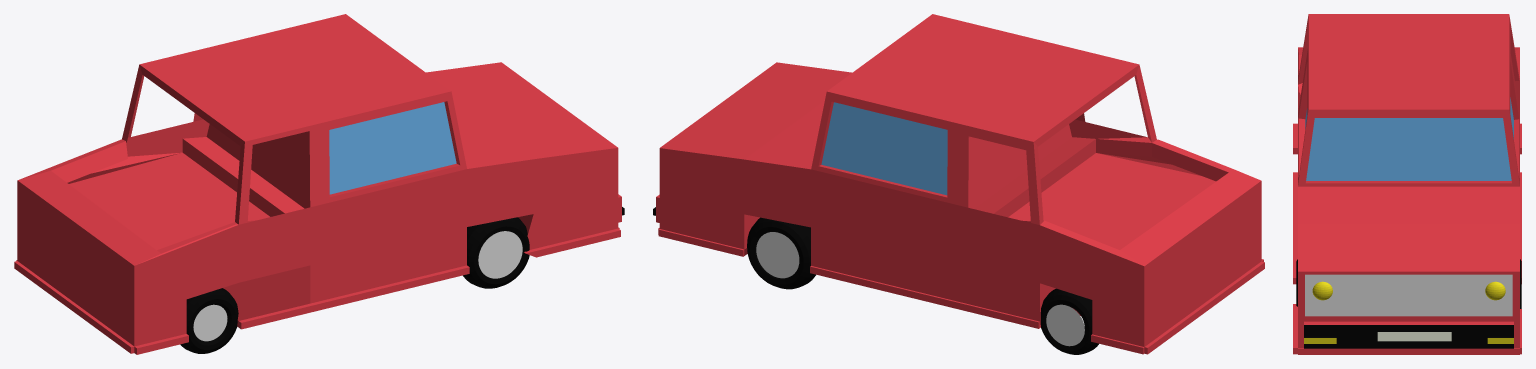
File: car.fbx
3 renders of one model, left to right at view 1: azimuth 30°, elevation 25°; view 2: azimuth 150°, elevation 25°; view 3: azimuth 270°, elevation 25°, orthographic. The views are drawn at different scales.
Parts seen in each view (by area): view 1: Cube, Cube.006, Torus.002, Torus.003, Circle.002, Circle.003; view 2: Cube, Cube.006, Torus, Torus.001, Circle, Circle.001; view 3: Cube, Cube.006, Cube.001, Cube.002, Cube.004, Cube.003, Sphere, Sphere.001.
Boxes of the visible parts, box(x1,y1,x2,y2) form: Cube: box(14, 14, 621, 354); Cube.006: box(329, 102, 456, 194); Torus.002: box(463, 217, 529, 288); Torus.003: box(180, 288, 238, 353); Circle.002: box(478, 231, 522, 278); Circle.003: box(193, 304, 227, 341); Cube: box(656, 14, 1264, 354); Cube.006: box(821, 102, 947, 195); Torus: box(747, 217, 815, 289); Torus.001: box(1040, 288, 1098, 354); Circle: box(756, 232, 799, 278); Circle.001: box(1046, 304, 1084, 346); Cube: box(1293, 14, 1521, 354); Cube.006: box(1305, 97, 1513, 180); Cube.001: box(1305, 274, 1512, 316); Cube.002: box(1304, 325, 1513, 348); Cube.004: box(1377, 332, 1451, 341); Cube.003: box(1304, 338, 1513, 343); Sphere: box(1312, 281, 1332, 300); Sphere.001: box(1485, 281, 1505, 300).
Size of the model in its own units: 201 by 79.87 by 84.38.
